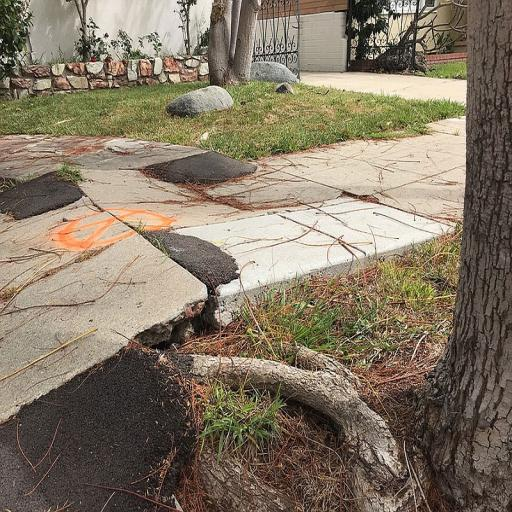pothole: (114, 264, 242, 376)
